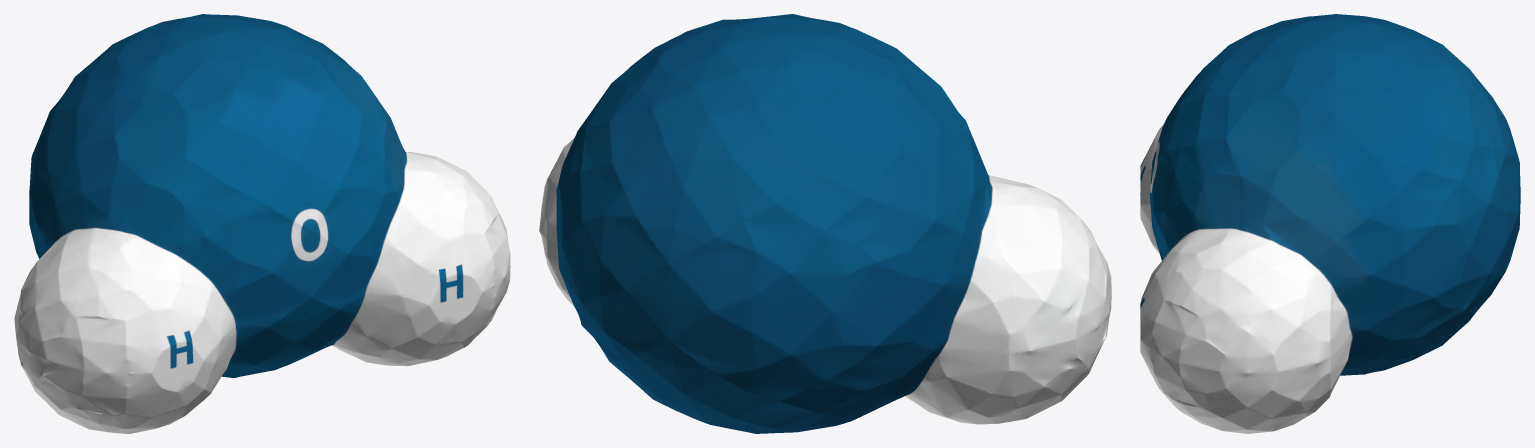
File: Water molecule.glb
The picture shows the model from 3 angles, left to right: view 1: azimuth 30°, elevation 25°; view 2: azimuth 150°, elevation 25°; view 3: azimuth 270°, elevation 25°; orthographic projection. The views are drawn at different scales.
Visible parts, largest first — view 1: mesh_node; view 2: mesh_node; view 3: mesh_node.
Boxes of the visible parts, box(x1,y1,x2,y2) form: mesh_node: box(14, 14, 510, 433); mesh_node: box(539, 14, 1111, 433); mesh_node: box(1140, 14, 1520, 433).
Bounding box in the file's own units: 1.9 × 1.26 × 1.34.
Materials: 1 (1 with a texture image).
